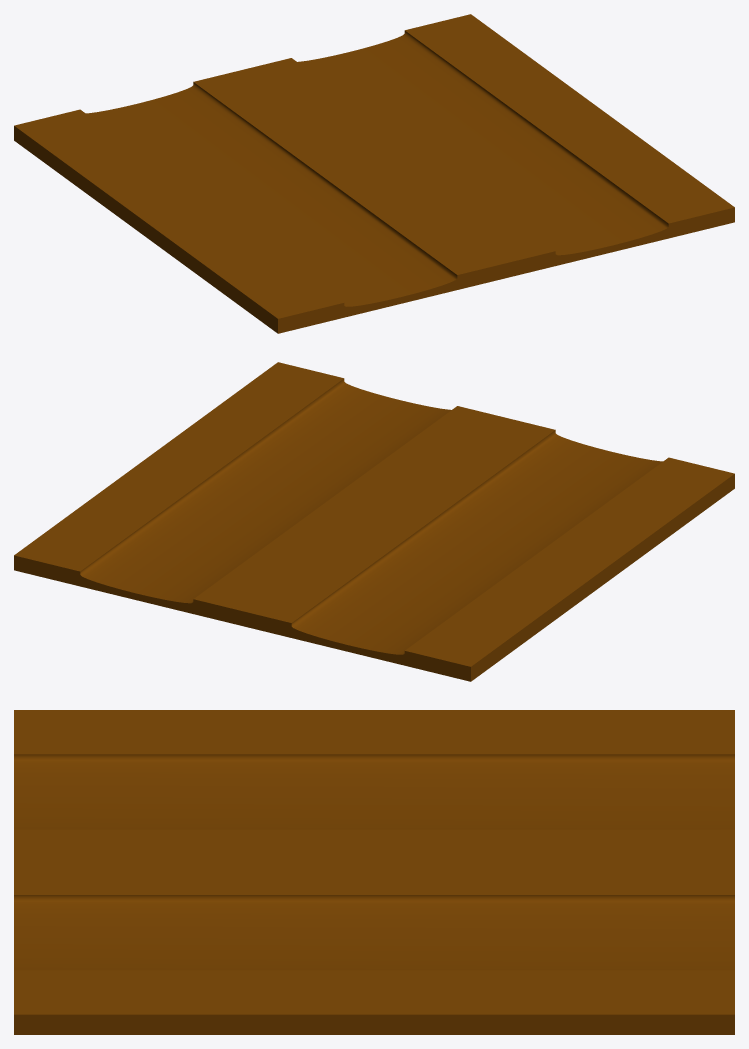
File: Ferme_plan.fbx
The picture shows the model from 3 angles, top to bottom: view 1: azimuth 30°, elevation 25°; view 2: azimuth 150°, elevation 25°; view 3: azimuth 270°, elevation 25°; orthographic projection. The views are drawn at different scales.
Visible parts, largest first — view 1: building_door_double_19; view 2: building_door_double_19; view 3: building_door_double_19.
Boxes of the visible parts, box(x1,y1,x2,y2) form: building_door_double_19: box(14, 14, 734, 333); building_door_double_19: box(14, 362, 734, 681); building_door_double_19: box(14, 710, 734, 1034).
Size of the model in its own units: 28.8 by 0.9 by 28.83.
